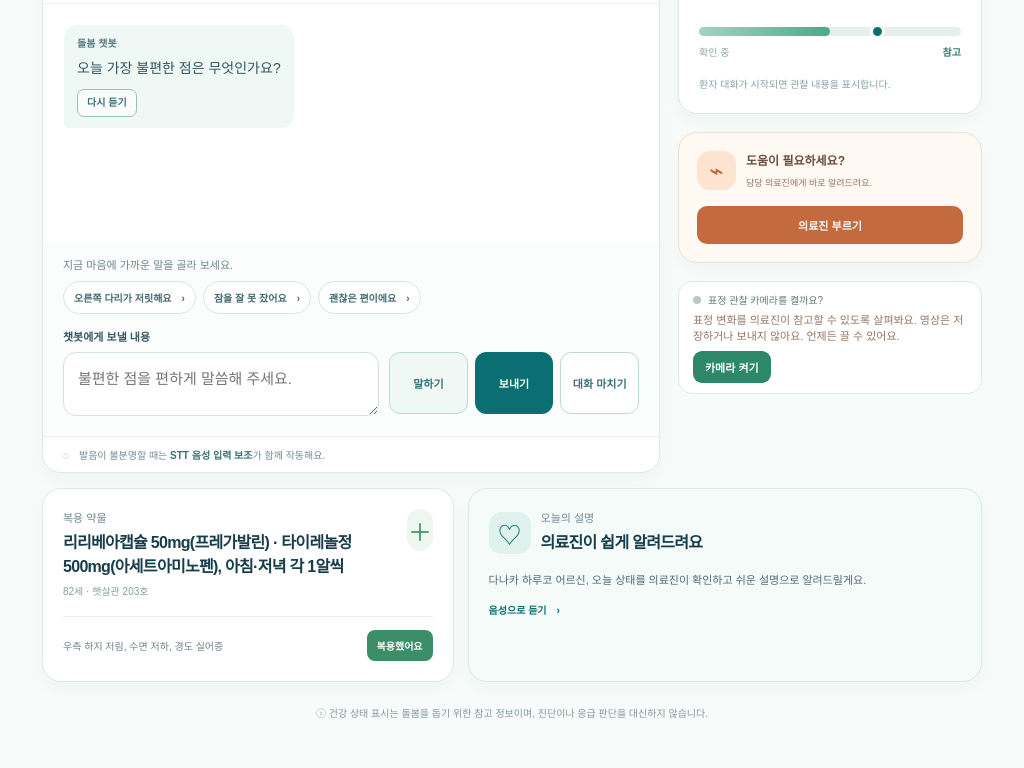
Test case: PatientChat › shows a friendly API error
(page scrolled)
Type "허리가 아파요." into the text box labelled "챗봇에게 보낼 내용" at (221, 384), box [63, 352, 379, 416]
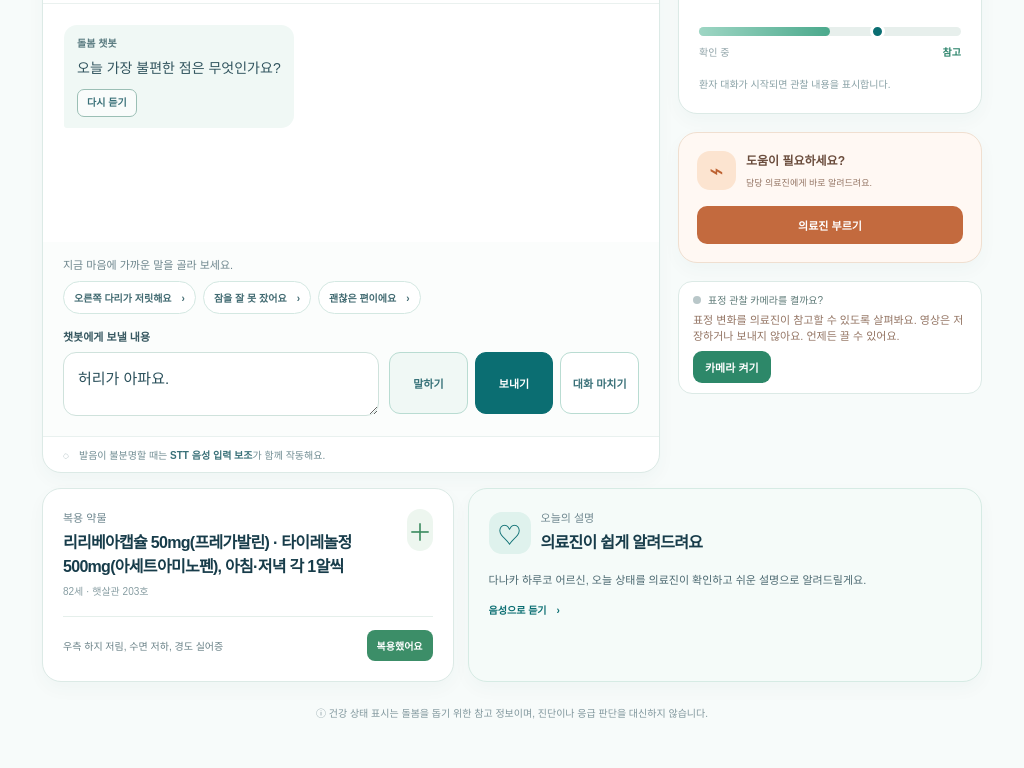
Click the button "보내기" at (514, 383), box [475, 352, 553, 414]
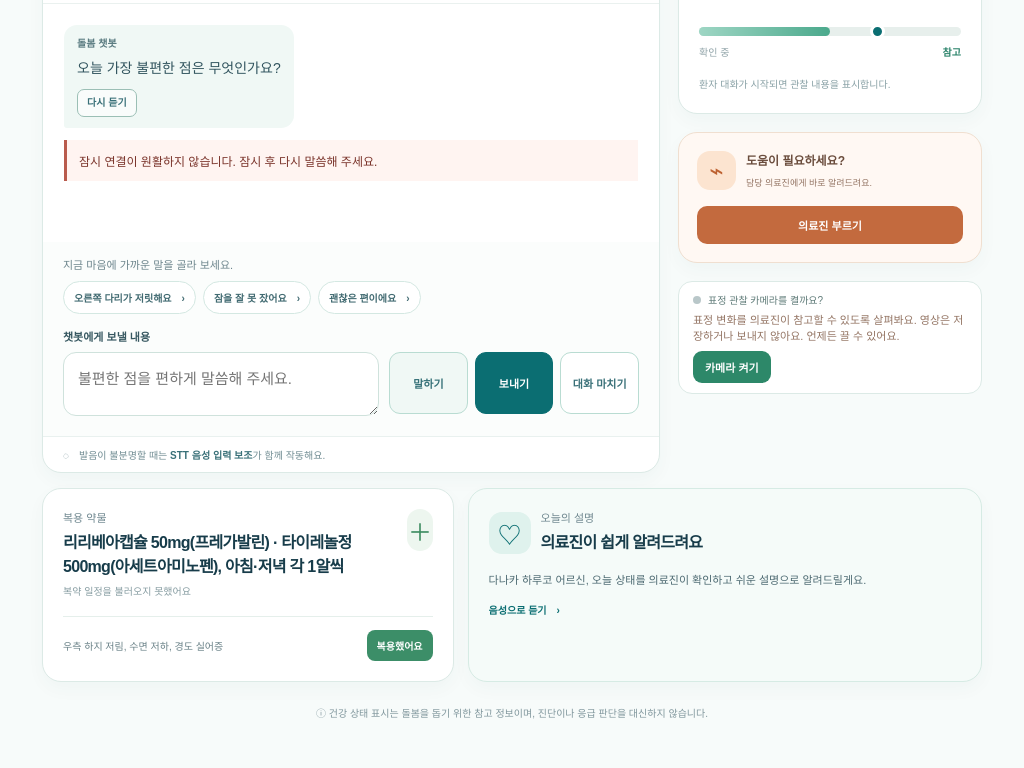
Expected: the text "잠시 연결이 원활하지 않습니다. 잠시 후 다시 말씀해 주세요." is shown, [64, 140, 638, 181]
